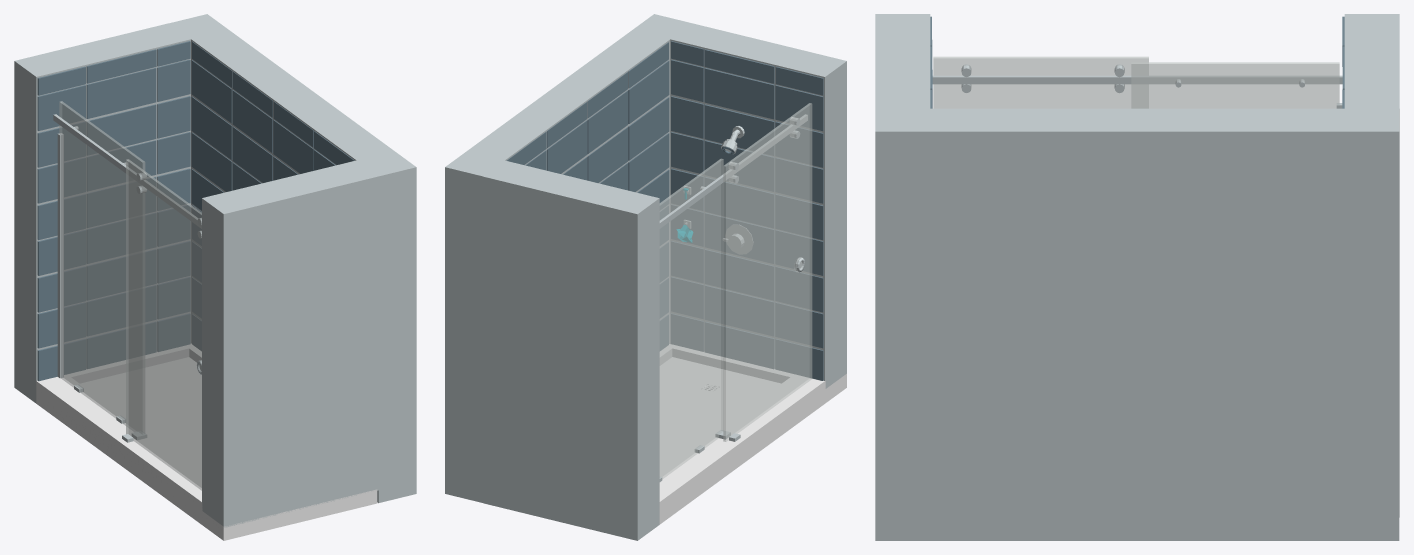
The model's file is shower.glb.
3 renders of one model, left to right at view 1: azimuth 30°, elevation 25°; view 2: azimuth 150°, elevation 25°; view 3: azimuth 270°, elevation 25°, orthographic. The views are drawn at different scales.
Visible parts, largest first — view 1: group1790589474, group2069246490, group413449833, group563226877, group412830914, group1031167705, group484513667, group232254235, group1738612280, group1399364795, group1329319492, group1135249576 (+10 smaller); view 2: group2069246490, group563226877, group876571541, group413449833, group412830914, group1198615719, group1790589474, group479470393, group1031167705, group1867324932, group232254235, group1738612280 (+12 smaller); view 3: group412830914, group232254235, group1588092611, group1268541014, group413449833, group563226877, group2069246490, group1790589474, group2142710330, group1805511526.
Part boxes in pixels (x1,y1,x2,y2): group1790589474: (202, 160, 378, 527); group2069246490: (14, 23, 190, 403); group413449833: (59, 101, 145, 433); group563226877: (126, 159, 201, 490); group412830914: (169, 14, 416, 320); group1031167705: (36, 375, 202, 510); group484513667: (191, 41, 232, 350); group232254235: (191, 223, 416, 503); group1738612280: (80, 373, 201, 472); group1399364795: (178, 489, 377, 540); group1329319492: (145, 357, 201, 418); group1135249576: (57, 133, 63, 378); group2069246490: (483, 160, 659, 540); group563226877: (723, 103, 812, 441); group876571541: (704, 49, 774, 368); group413449833: (659, 158, 723, 478); group412830914: (445, 14, 691, 321); group1198615719: (775, 66, 823, 380); group1790589474: (670, 23, 846, 388); group479470393: (671, 41, 704, 351); group1031167705: (659, 375, 825, 524); group1867324932: (628, 42, 669, 350); group232254235: (445, 223, 669, 502); group1738612280: (660, 386, 767, 471); group412830914: (875, 108, 1399, 313); group232254235: (875, 363, 1399, 540); group1588092611: (875, 311, 1092, 362); group1268541014: (1187, 311, 1399, 362); group413449833: (1131, 62, 1339, 108); group563226877: (933, 56, 1148, 108); group2069246490: (1342, 14, 1399, 517); group1790589474: (875, 14, 930, 108); group2142710330: (1093, 313, 1187, 362); group1805511526: (932, 75, 1342, 84).
Bounding box in the file's own units: 1.42 × 2.3 × 2.67.
